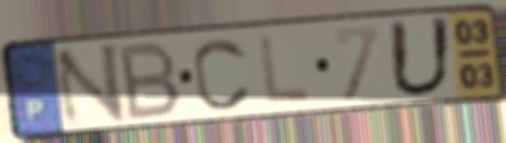7: (331, 21, 385, 103)
B: (117, 38, 185, 123)
C: (190, 35, 255, 113)
L: (256, 29, 315, 110)
N: (49, 39, 130, 131)
U: (385, 14, 456, 100)
